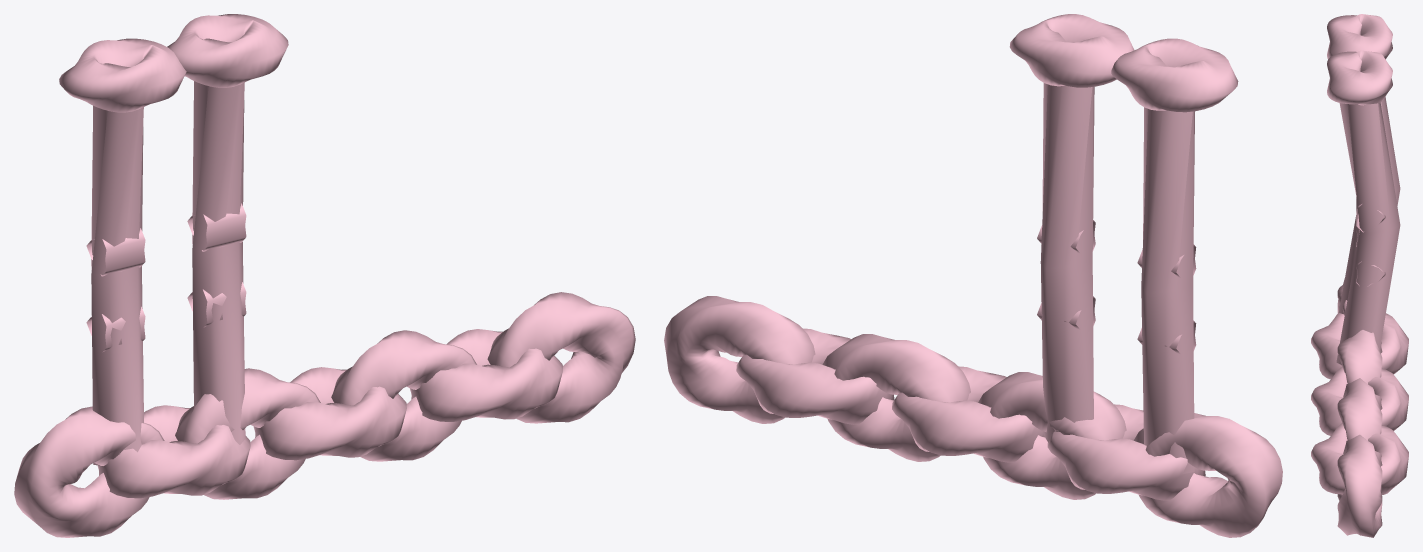
Rendered from row_tr.glb.
3 renders of one model, left to right at view 1: azimuth 30°, elevation 25°; view 2: azimuth 150°, elevation 25°; view 3: azimuth 270°, elevation 25°, orthographic. The views are drawn at different scales.
Parts seen in each view (by area): view 1: Row; view 2: Row; view 3: Row.
Boxes of the visible parts, <box> form: Row: <box>14,14,635,537</box>; Row: <box>664,14,1282,537</box>; Row: <box>1311,14,1408,537</box>.
Bounding box in the file's own units: 3.76 × 2.78 × 0.7025.
